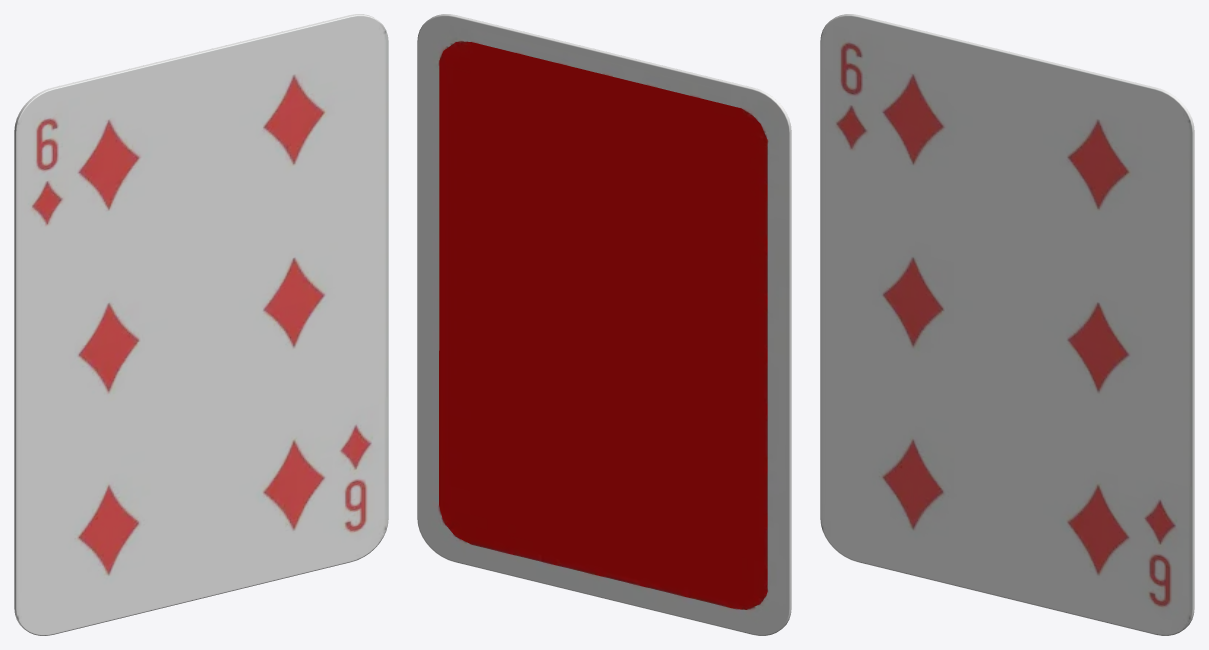
Rendered from diamonds_6.glb.
3 renders of one model, left to right at view 1: azimuth 30°, elevation 25°; view 2: azimuth 150°, elevation 25°; view 3: azimuth 330°, elevation 25°, orthographic.
Visible parts, largest first — view 1: defaultMaterial.030; view 2: defaultMaterial.030; view 3: defaultMaterial.030.
Boxes of the visible parts, x1,y1,x2,y2 form: defaultMaterial.030: (14, 14, 388, 635); defaultMaterial.030: (417, 14, 791, 635); defaultMaterial.030: (820, 14, 1194, 635).
Size of the model in its own units: 0.1408 by 0.1972 by 0.00111.
Materials: 1 (1 with a texture image).
